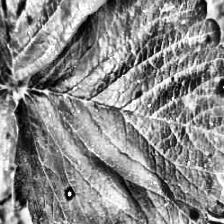Leaf Spot: (11, 0, 224, 224), (0, 0, 115, 80)
